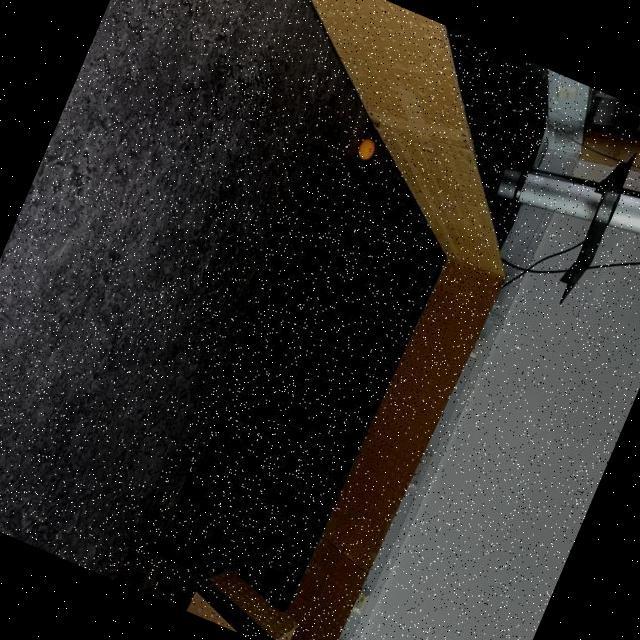ping-pong-ball: (354, 134, 378, 162)
